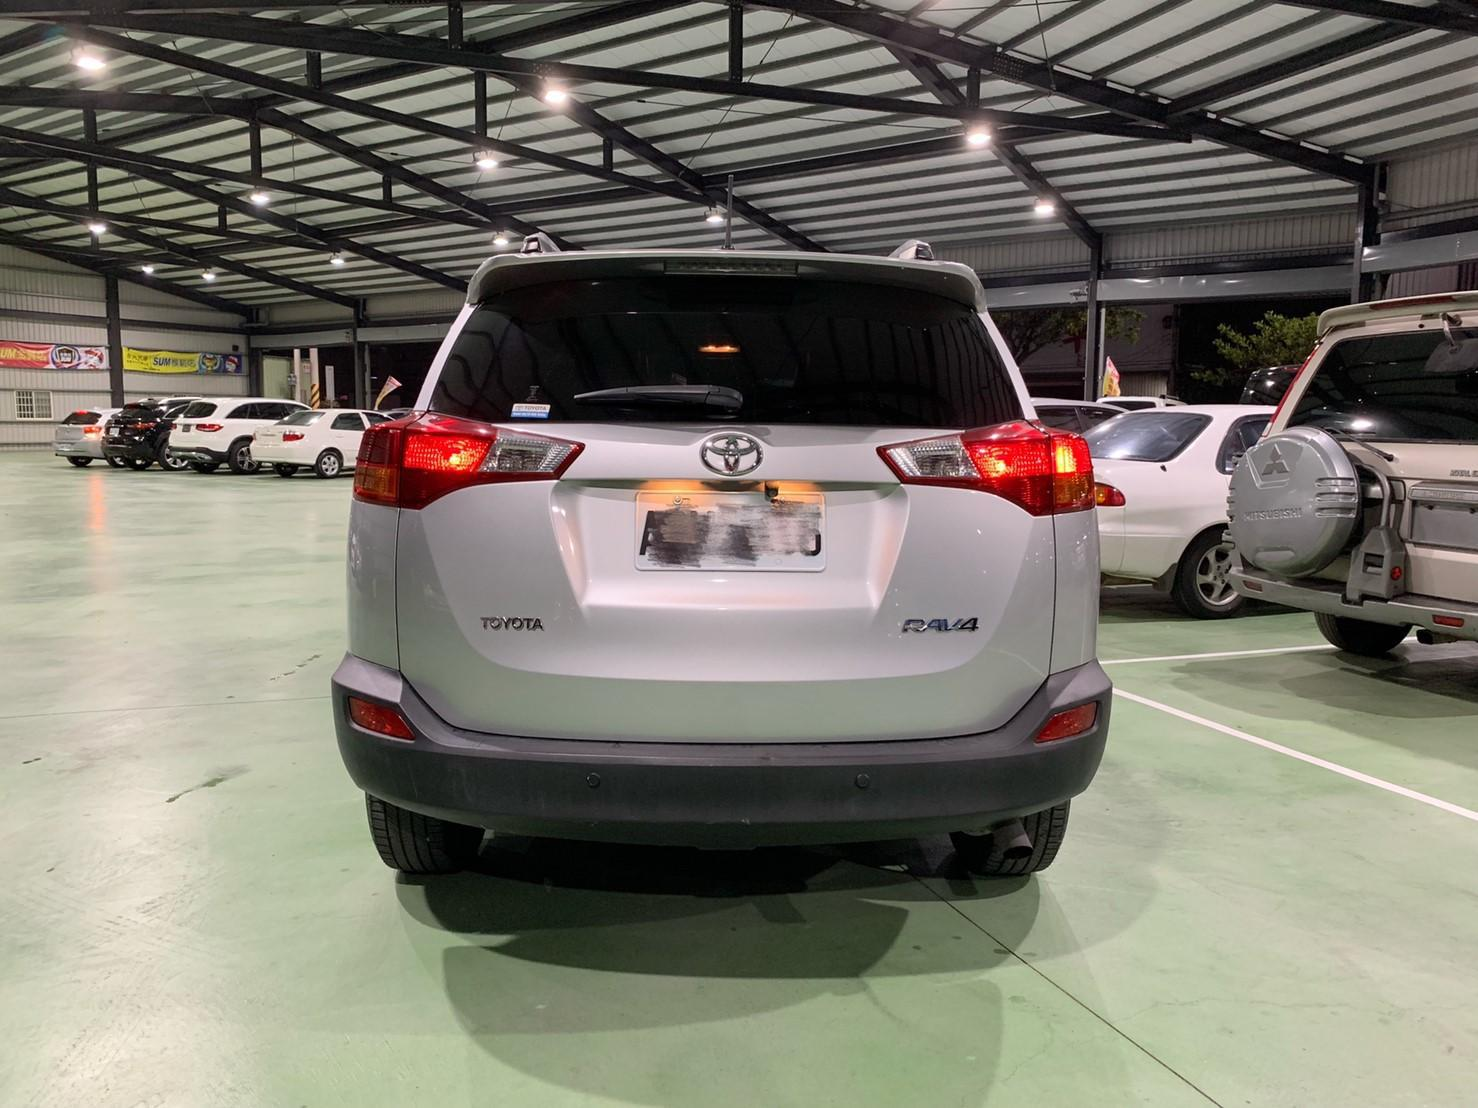toyota_rav4: (350, 244, 1100, 850)
